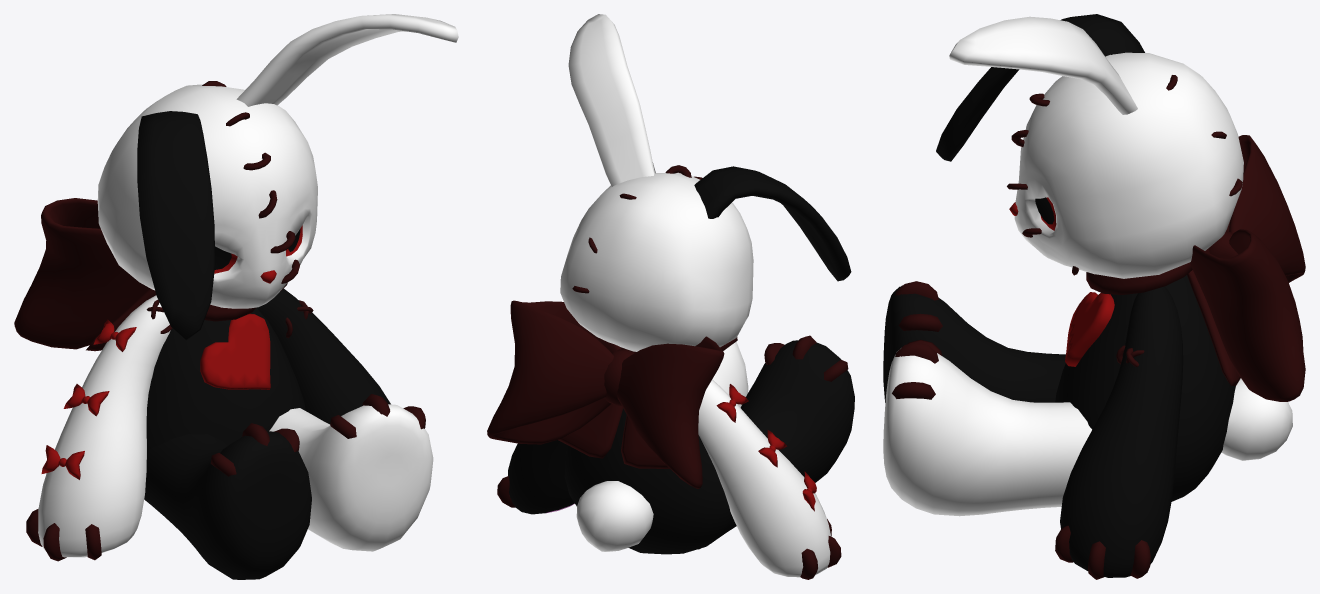
Rendered from Object_Bunny Doll.FBX.
3 views of the same model, side by side, from view 1: azimuth 30°, elevation 25°; view 2: azimuth 150°, elevation 25°; view 3: azimuth 270°, elevation 25° (orthographic). The views are drawn at different scales.
Visible parts, largest first — view 1: Riris_Boss_Weapon; view 2: Riris_Boss_Weapon; view 3: Riris_Boss_Weapon.
Part boxes in pixels (x1=…): Riris_Boss_Weapon: x1=14, y1=14, x2=458, y2=579; Riris_Boss_Weapon: x1=487, y1=14, x2=854, y2=579; Riris_Boss_Weapon: x1=883, y1=14, x2=1305, y2=579.
Size of the model in its own units: 40.54 by 53.43 by 38.16.
